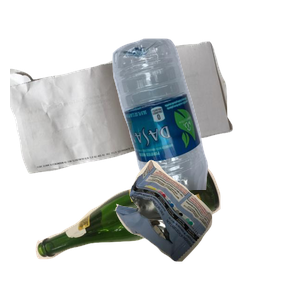glass: (33, 158, 246, 300)
paper: (10, 39, 236, 205)
plastic: (110, 36, 300, 216)
trash: (113, 157, 300, 300)
